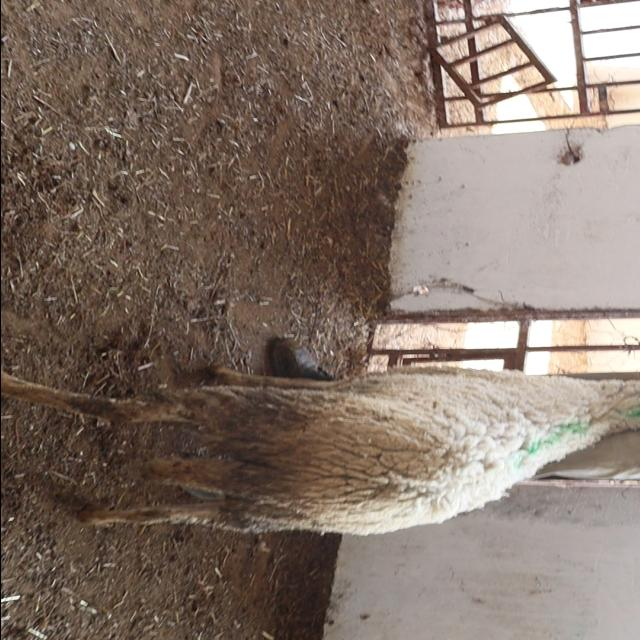Score_4: (1, 367, 640, 535)
